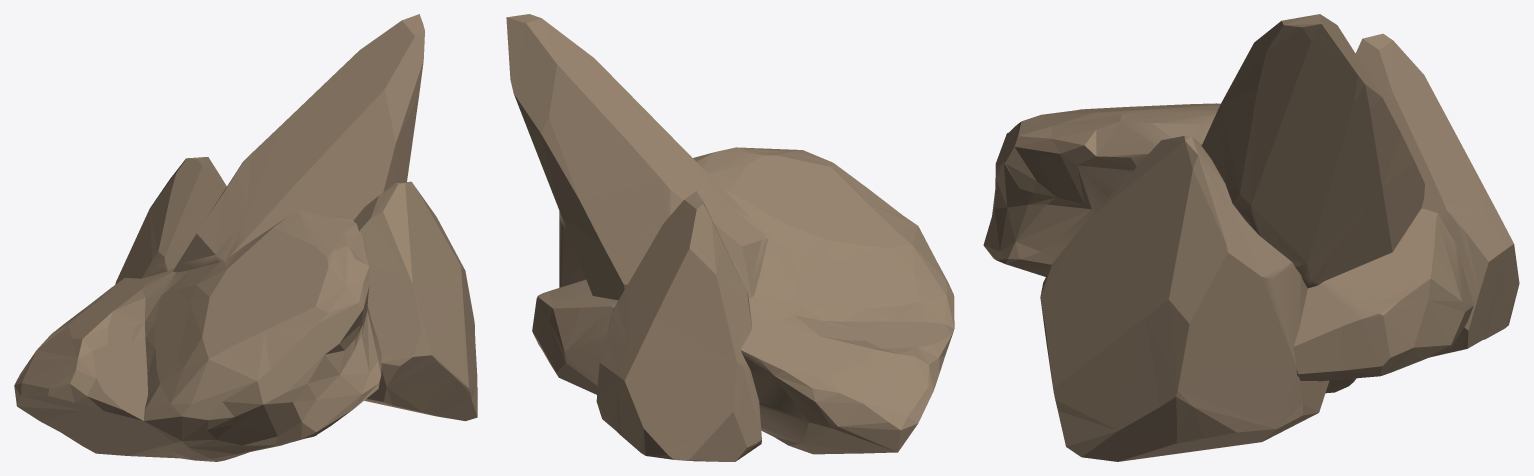
File: SM_Env_Rock_Spikes_01.glb
The picture shows the model from 3 angles, left to right: view 1: azimuth 30°, elevation 25°; view 2: azimuth 150°, elevation 25°; view 3: azimuth 270°, elevation 25°; orthographic projection. The views are drawn at different scales.
Visible parts, largest first — view 1: SM_Env_Rock_Spikes_01; view 2: SM_Env_Rock_Spikes_01; view 3: SM_Env_Rock_Spikes_01.
Boxes of the visible parts, x1,y1,x2,y2 form: SM_Env_Rock_Spikes_01: (14, 14, 477, 461); SM_Env_Rock_Spikes_01: (506, 14, 954, 461); SM_Env_Rock_Spikes_01: (983, 14, 1519, 461).
Size of the model in its own units: 9.56 by 8.06 by 8.17.
1 material, 1 textured.
